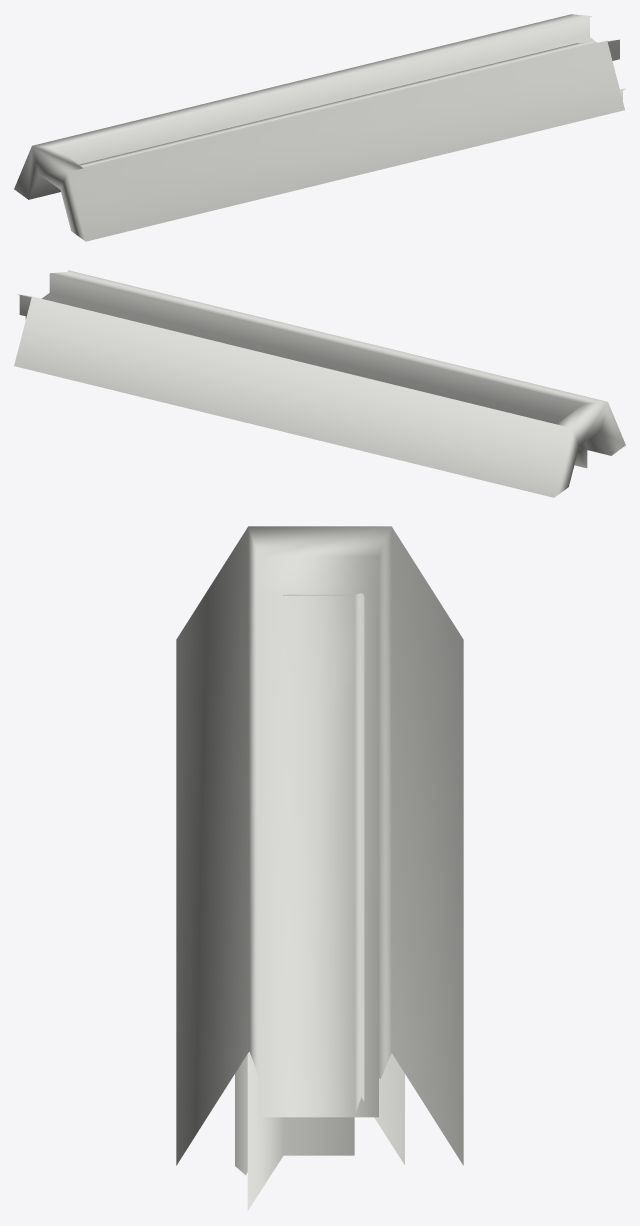
File: iss-truss-p6.glb
The picture shows the model from 3 angles, top to bottom: view 1: azimuth 30°, elevation 25°; view 2: azimuth 150°, elevation 25°; view 3: azimuth 270°, elevation 25°; orthographic projection. The views are drawn at different scales.
Visible parts, largest first — view 1: truss-p6; view 2: truss-p6; view 3: truss-p6.
Part boxes in pixels (x1,y1,x2,y2): truss-p6: [14, 14, 625, 241]; truss-p6: [14, 270, 625, 497]; truss-p6: [176, 526, 463, 1210].
Size of the model in its own units: 13.25 by 1.63 by 2.95.
1 material, 1 textured.
